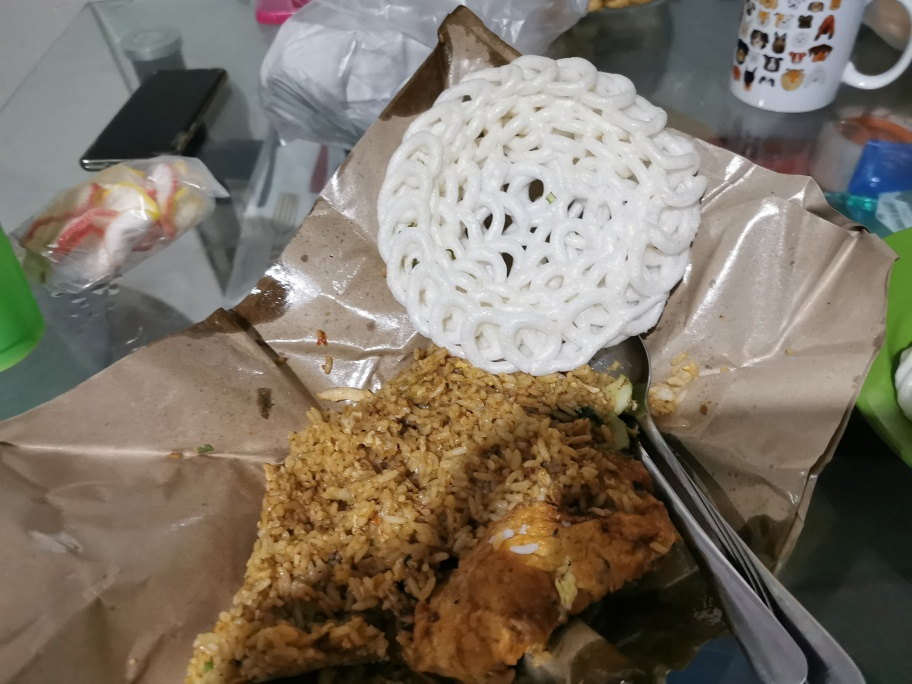kerupuk: (383, 57, 698, 357)
nasi goreng: (203, 356, 668, 684)
